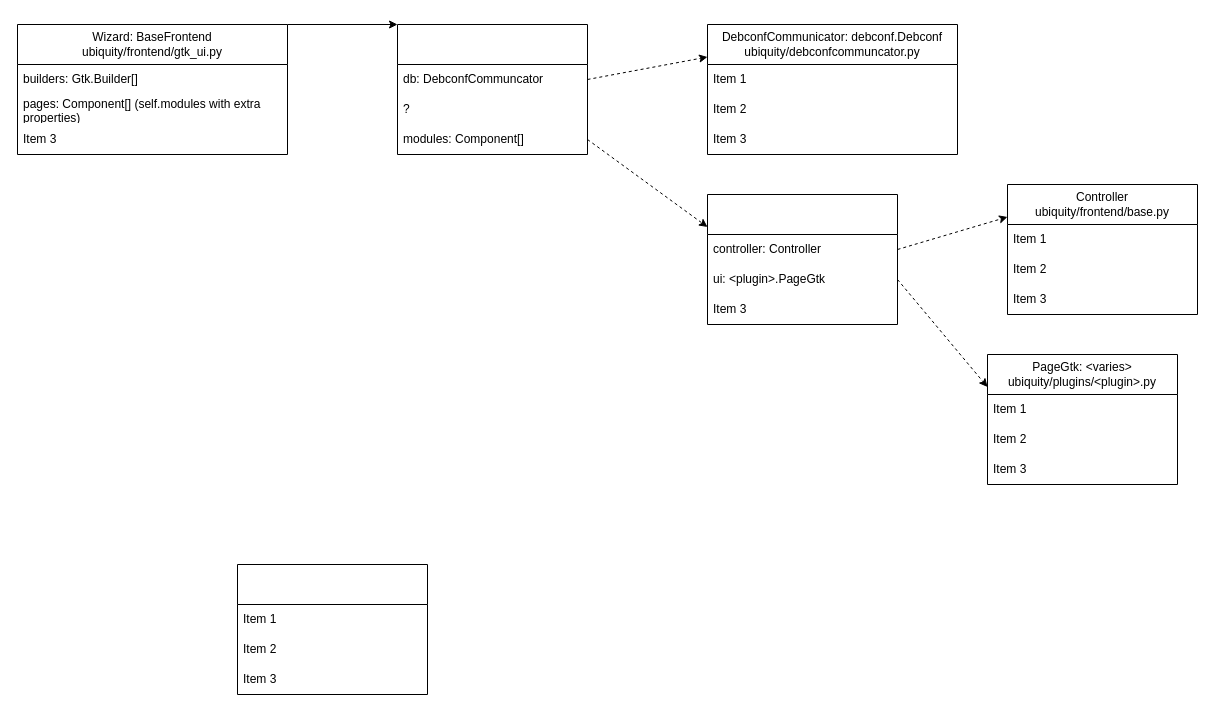
The diagram is 1215 pixels wide and 712 high, and some of its shapes have lost their labels. The shapes that lost their labels are listed below. From the top down, each one's box as (x1, y1, x2, y2) in pixels, then its label:
(396, 24, 588, 154): BaseFrontend ubiquity/frontend/base.py
(706, 194, 898, 324): Component ubiquity/frontend/base.py
